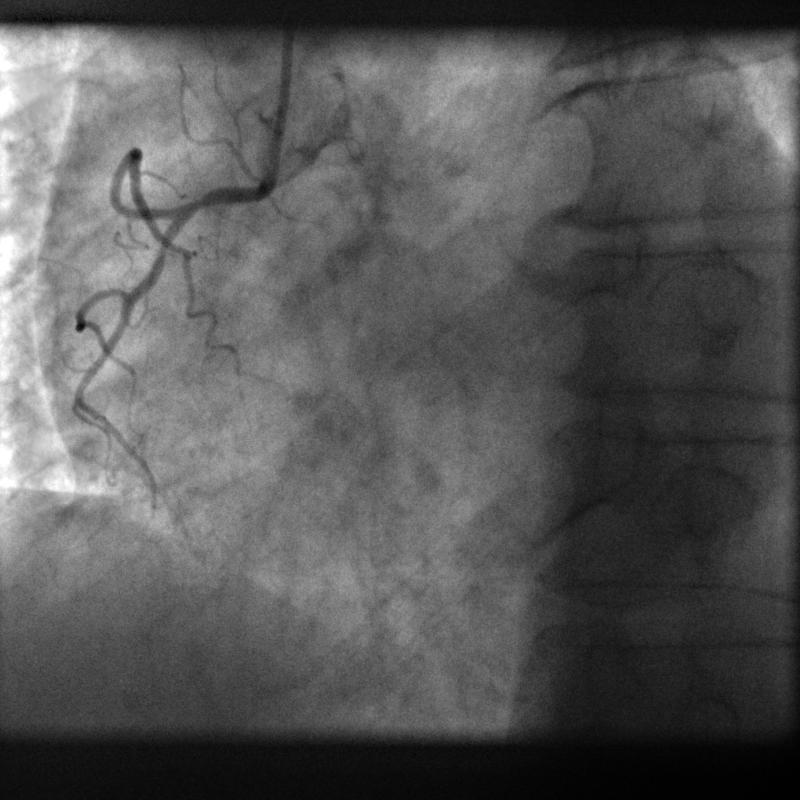Stenosis: (178, 182, 215, 223)
